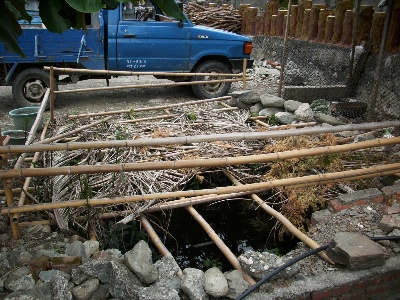bowl: (9, 106, 43, 131)
